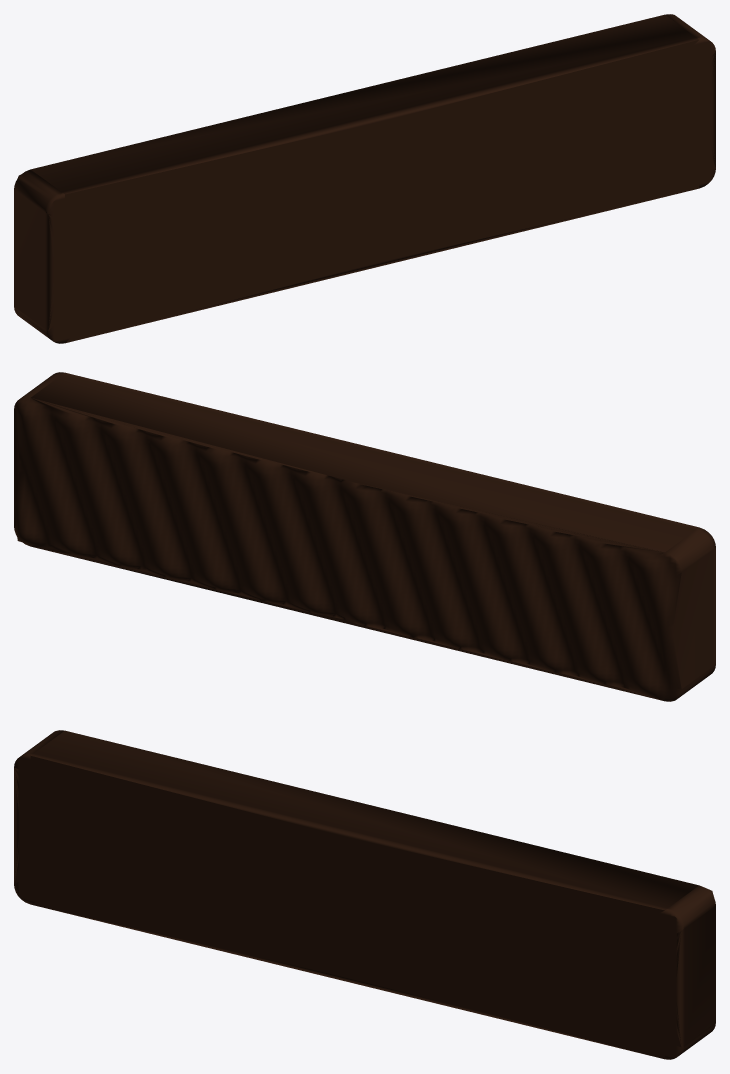
The model's file is GoProTeen_Inner_Bar_Assembled.glb.
The picture shows the model from 3 angles, top to bottom: view 1: azimuth 30°, elevation 25°; view 2: azimuth 150°, elevation 25°; view 3: azimuth 330°, elevation 25°; orthographic projection.
Parts seen in each view (by area): view 1: GP_BOTTOM_CHOCOLATE_SHELL, GP_TOP_CHOCOLATE_SHELL; view 2: GP_TOP_CHOCOLATE_SHELL, GP_BOTTOM_CHOCOLATE_SHELL; view 3: GP_BOTTOM_CHOCOLATE_SHELL, GP_TOP_CHOCOLATE_SHELL.
Part boxes in pixels (left/top/right/bottom): GP_BOTTOM_CHOCOLATE_SHELL: left=45, top=37, right=715, bottom=343; GP_TOP_CHOCOLATE_SHELL: left=14, top=14, right=706, bottom=337; GP_TOP_CHOCOLATE_SHELL: left=14, top=374, right=712, bottom=701; GP_BOTTOM_CHOCOLATE_SHELL: left=51, top=372, right=715, bottom=675; GP_BOTTOM_CHOCOLATE_SHELL: left=14, top=753, right=684, bottom=1059; GP_TOP_CHOCOLATE_SHELL: left=23, top=730, right=715, bottom=1053.
Bounding box in the file's own units: 0.0828 × 0.0176 × 0.00854.
